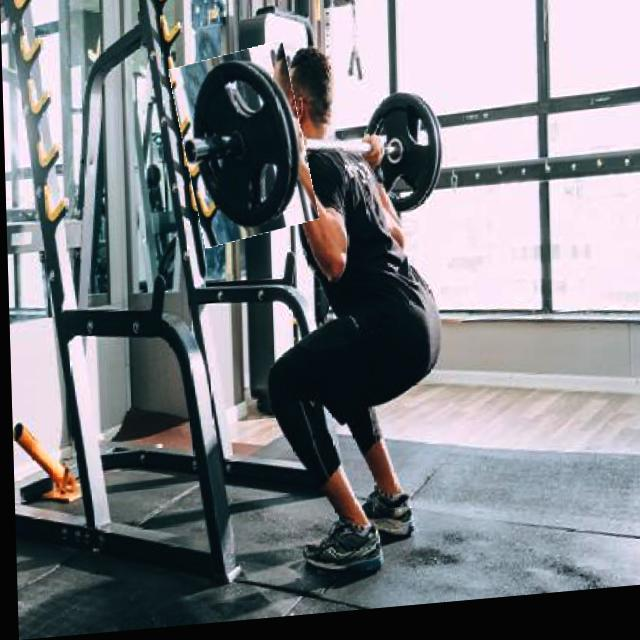barbell: (176, 49, 311, 251)
